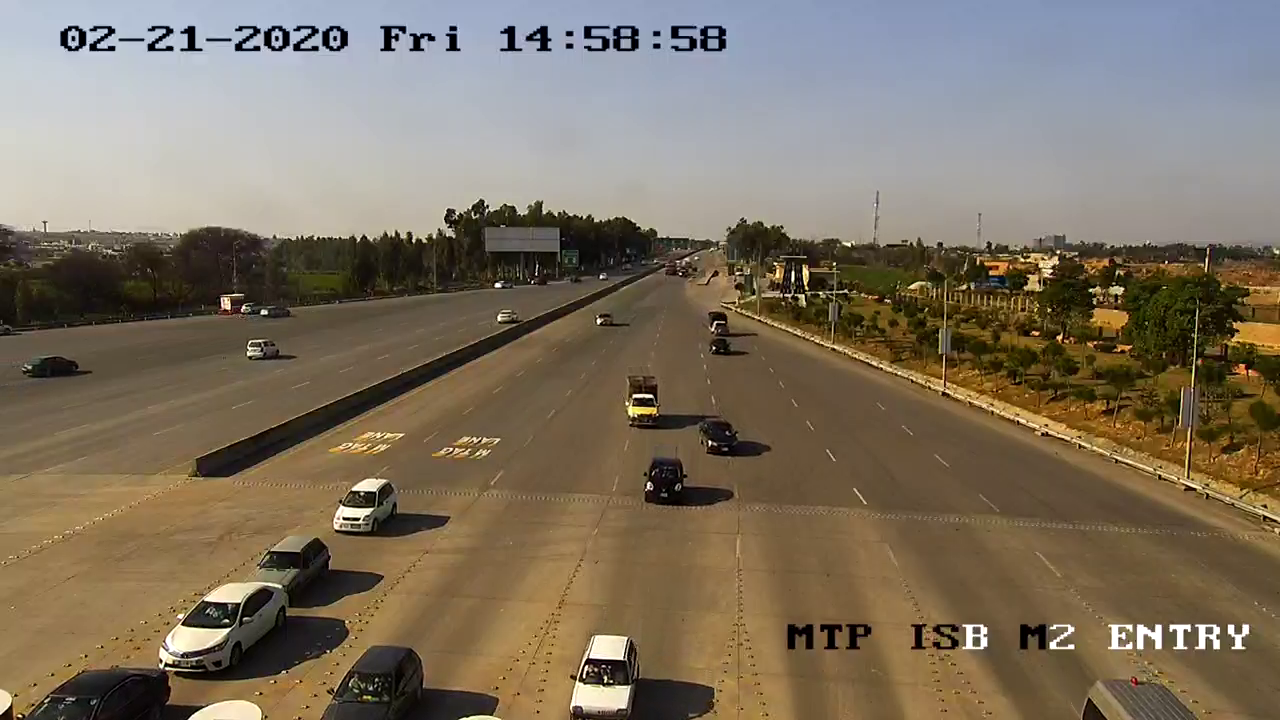f1: (148, 574, 297, 678), (557, 618, 651, 720), (320, 468, 403, 541), (633, 453, 693, 510), (689, 414, 751, 466)
